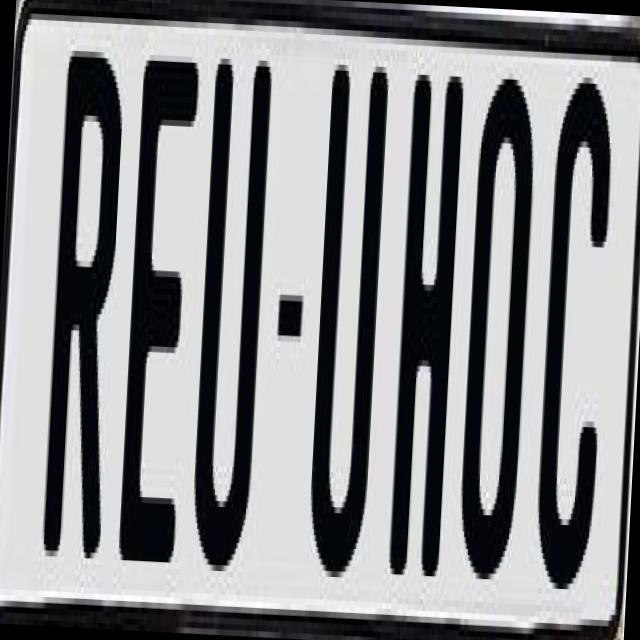0: (452, 78, 536, 610)
C: (533, 70, 624, 596)
E: (115, 60, 204, 598)
H: (388, 68, 469, 571)
R: (40, 33, 126, 553)
U: (304, 59, 389, 602), (187, 52, 273, 572)
